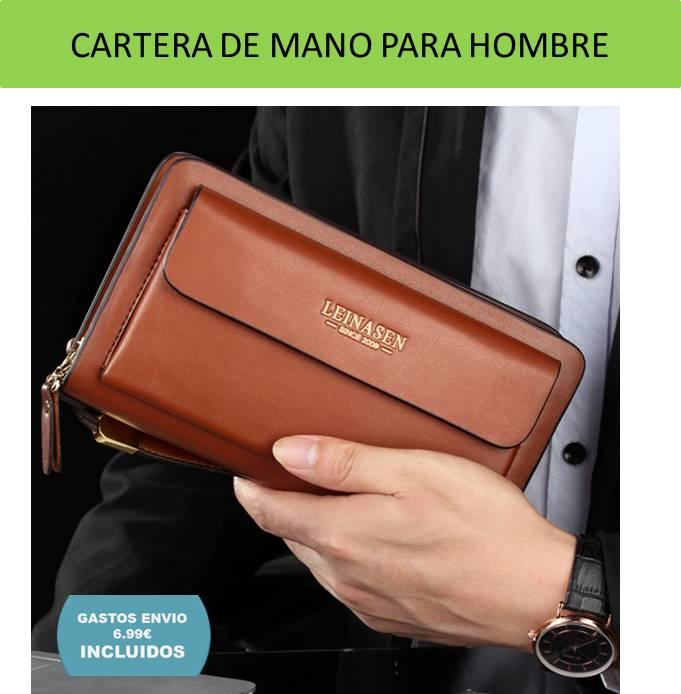monedero: (40, 153, 586, 497)
